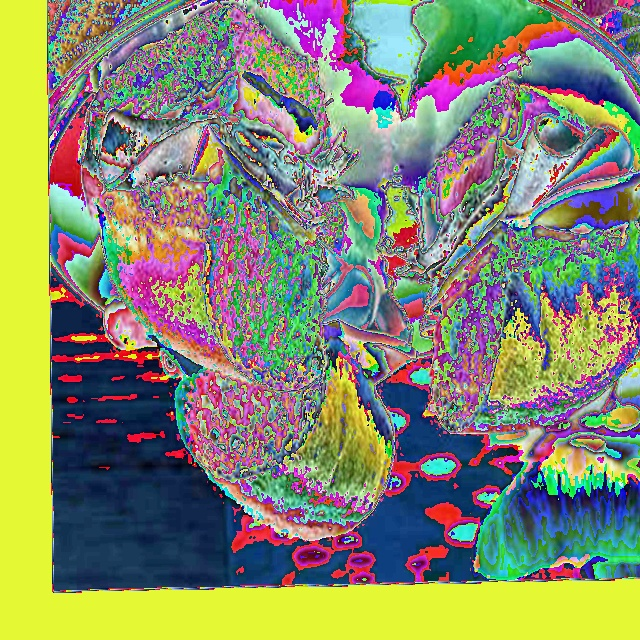background: (170, 142, 639, 581), (81, 0, 419, 548), (246, 75, 639, 438)
